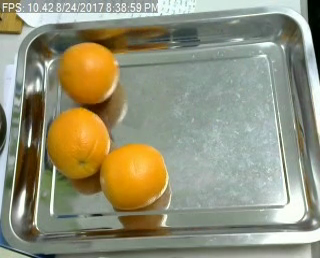Orange: (46, 107, 109, 180), (101, 143, 169, 210), (57, 42, 118, 104)
